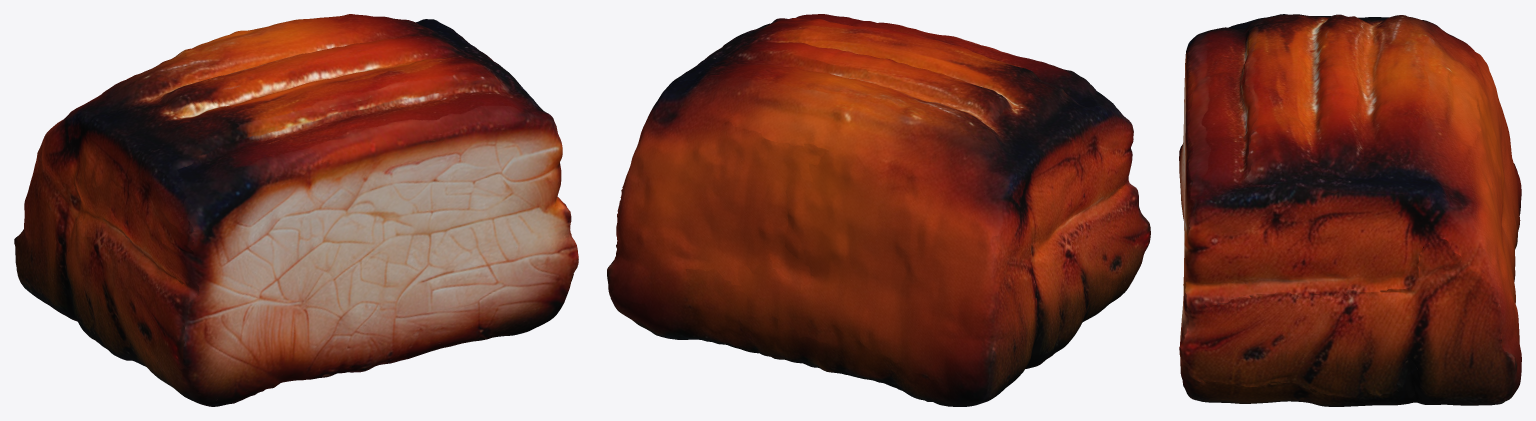
3 renders of one model, left to right at view 1: azimuth 30°, elevation 25°; view 2: azimuth 150°, elevation 25°; view 3: azimuth 270°, elevation 25°, orthographic. The views are drawn at different scales.
Visible parts, largest first — view 1: tmp5_wjqim3.ply; view 2: tmp5_wjqim3.ply; view 3: tmp5_wjqim3.ply.
Boxes of the visible parts, bbox=[...] form: tmp5_wjqim3.ply: bbox=[14, 14, 578, 406]; tmp5_wjqim3.ply: bbox=[607, 14, 1150, 406]; tmp5_wjqim3.ply: bbox=[1179, 14, 1521, 406].
Bounding box in the file's own units: 196 × 121 × 143.
1 material, 1 textured.
